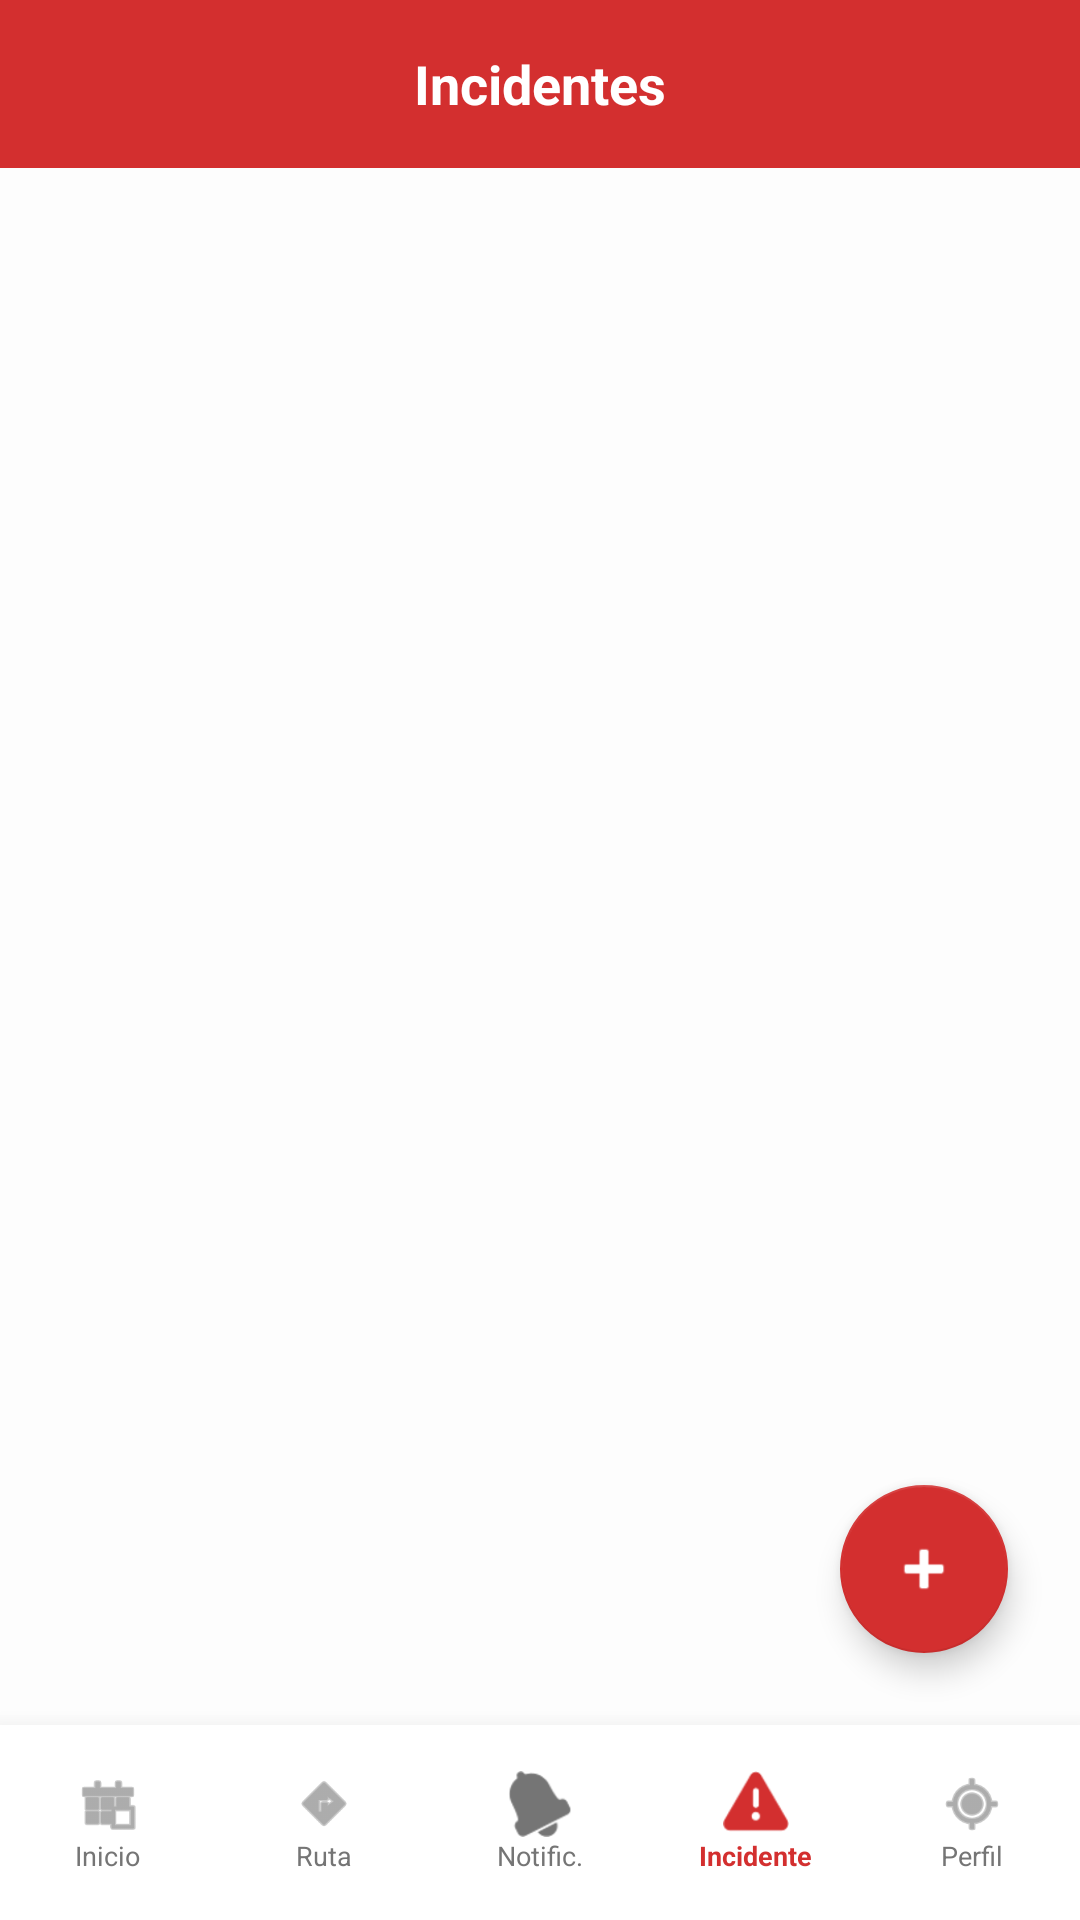

Where to tap for icons on this 1080 x 1920 app screen, as (x,y):
add: (924,1569)
alert: (756,1801)
mylocation: (972,1804)
popup reminder: (540,1804)
today: (109,1805)
